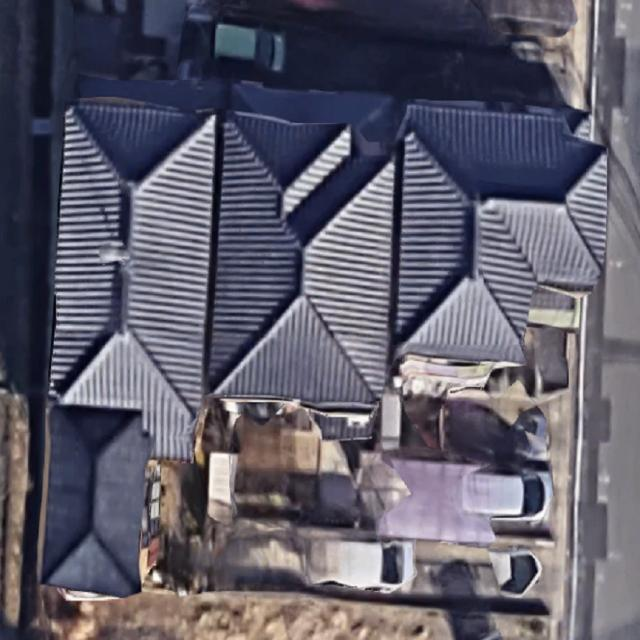Batiment: (50, 101, 215, 459), (398, 104, 606, 362), (209, 115, 394, 404), (42, 406, 150, 596)
